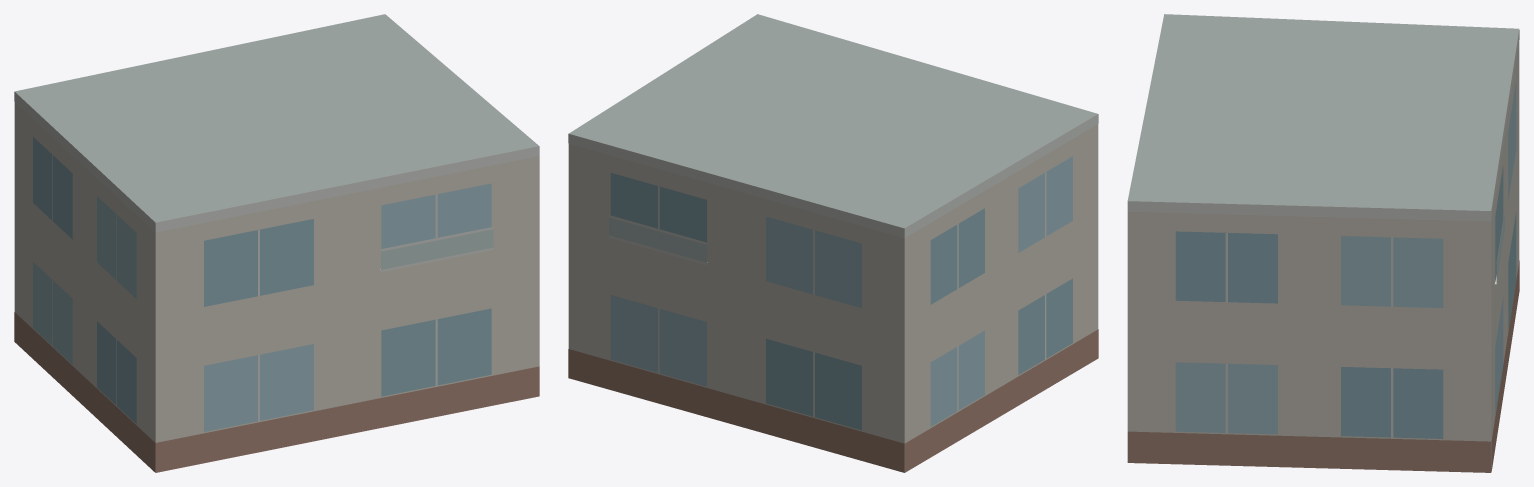
Rendered from survey-upis-32610368.glb.
3 views of the same model, side by side, from view 1: azimuth 30°, elevation 25°; view 2: azimuth 150°, elevation 25°; view 3: azimuth 270°, elevation 25° (orthographic). The views are drawn at different scales.
Visible parts, largest first — view 1: survey-upis-32610368.tmp; view 2: survey-upis-32610368.tmp; view 3: survey-upis-32610368.tmp.
Boxes of the visible parts, x1,y1,x2,y2 form: survey-upis-32610368.tmp: (14,14,539,472); survey-upis-32610368.tmp: (568,14,1098,472); survey-upis-32610368.tmp: (1127,14,1519,472).
Bounding box in the file's own units: 9.86 × 6.1 × 8.29.
